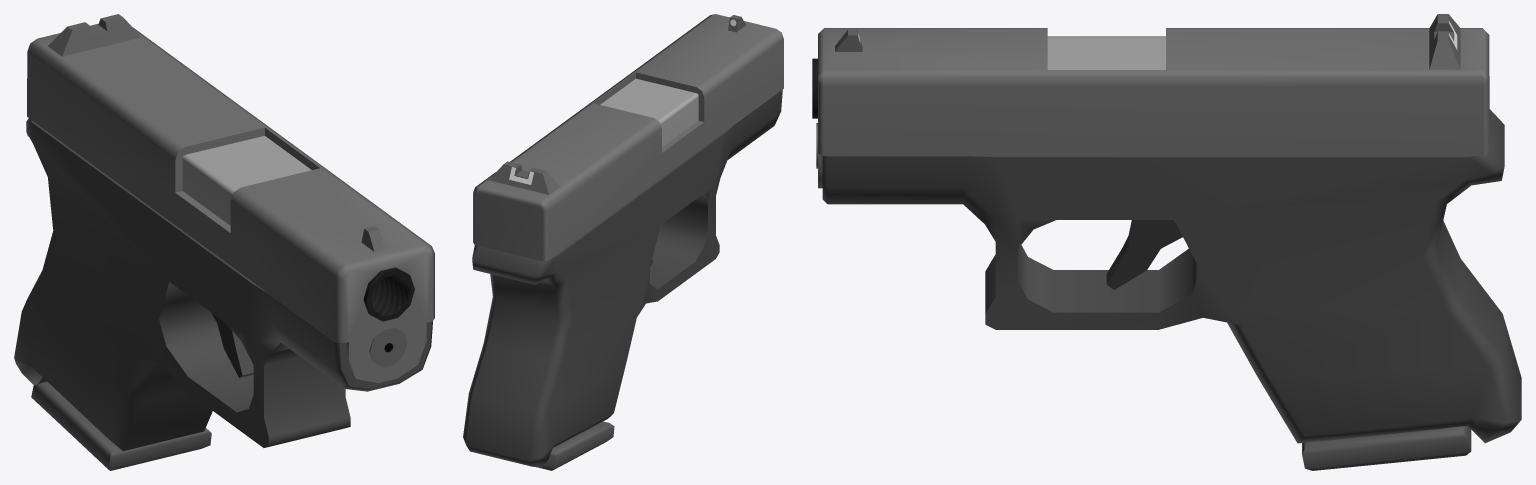
The model's file is pistol26.fbx.
3 renders of one model, left to right at view 1: azimuth 30°, elevation 25°; view 2: azimuth 150°, elevation 25°; view 3: azimuth 270°, elevation 25°, orthographic. The views are drawn at different scales.
Visible parts, largest first — view 1: frame, slide, magazine, trigger; view 2: frame, slide, magazine; view 3: frame, slide, magazine, trigger.
Boxes of the visible parts, x1,y1,x2,y2 form: frame: (14, 118, 432, 451); slide: (27, 14, 434, 383); magazine: (31, 381, 211, 470); trigger: (211, 312, 253, 377); frame: (463, 78, 782, 467); slide: (473, 14, 783, 261); magazine: (538, 421, 614, 470); frame: (812, 36, 1521, 443); slide: (818, 14, 1489, 188); magazine: (1302, 426, 1471, 470); trigger: (1106, 220, 1182, 289).
Size of the model in its own units: 0.0299 by 0.1081 by 0.1653.
1 material, 1 textured.
